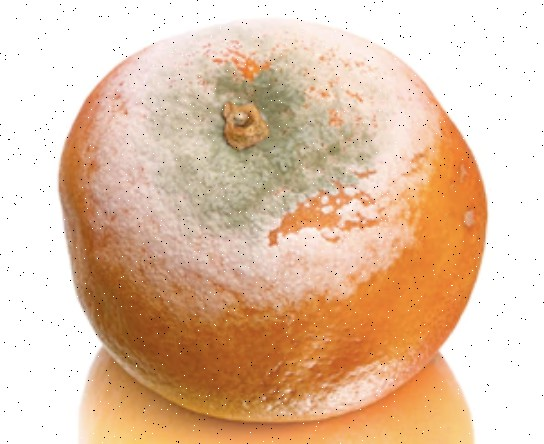rotten_orange: (58, 19, 487, 421)
